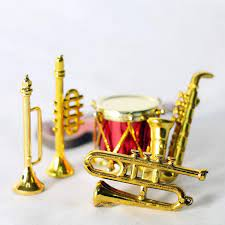Saxophone: (143, 67, 225, 184)
